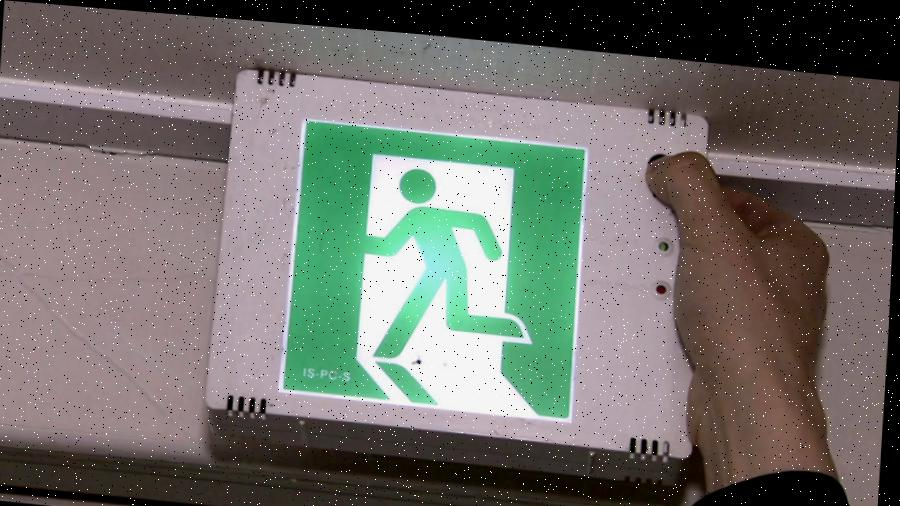emergency_exit: (205, 67, 709, 479), (277, 116, 591, 425)
